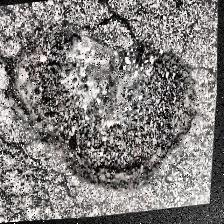pothole: (0, 10, 210, 208)
